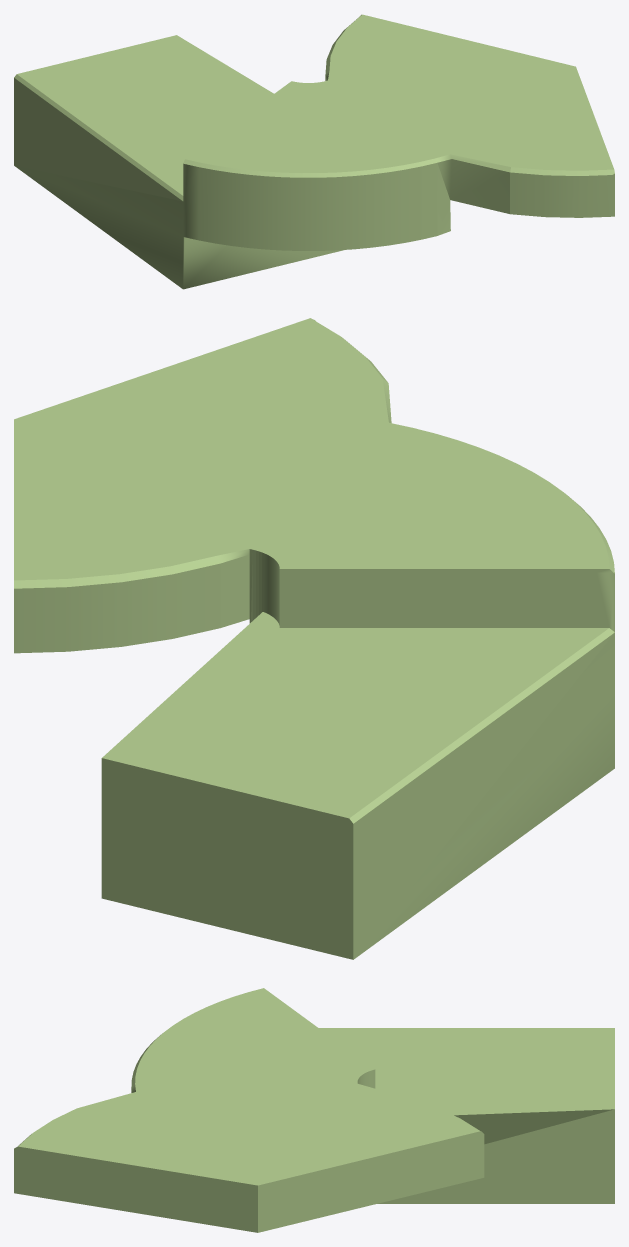
Rendered from Platform_Waterfall_Start.fbx.
3 renders of one model, top to bottom at view 1: azimuth 30°, elevation 25°; view 2: azimuth 150°, elevation 25°; view 3: azimuth 270°, elevation 25°, orthographic. The views are drawn at different scales.
Visible parts, largest first — view 1: Platform_Waterfall_Start; view 2: Platform_Waterfall_Start; view 3: Platform_Waterfall_Start.
Boxes of the visible parts, bbox=[...] form: Platform_Waterfall_Start: bbox=[14, 14, 614, 289]; Platform_Waterfall_Start: bbox=[14, 318, 614, 959]; Platform_Waterfall_Start: bbox=[14, 988, 614, 1232].
Bounding box in the file's own units: 50.71 × 16 × 64.78.
